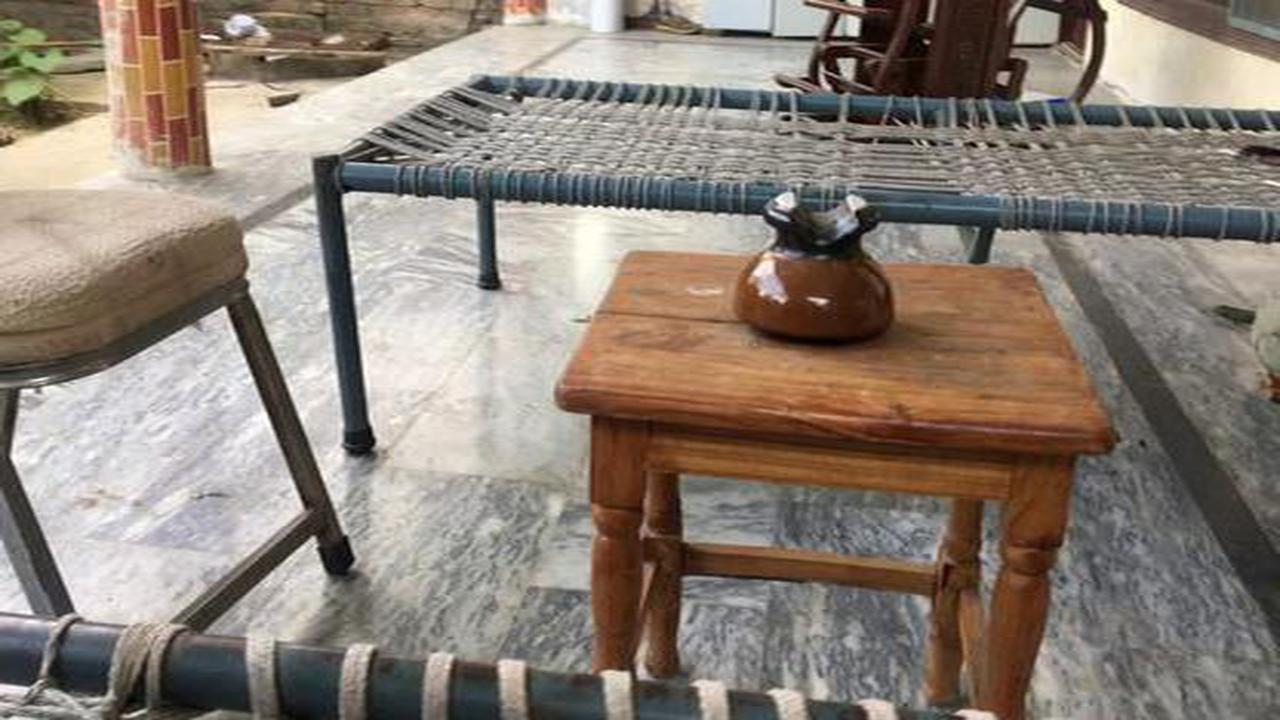insulator_pin: (724, 168, 921, 348)
